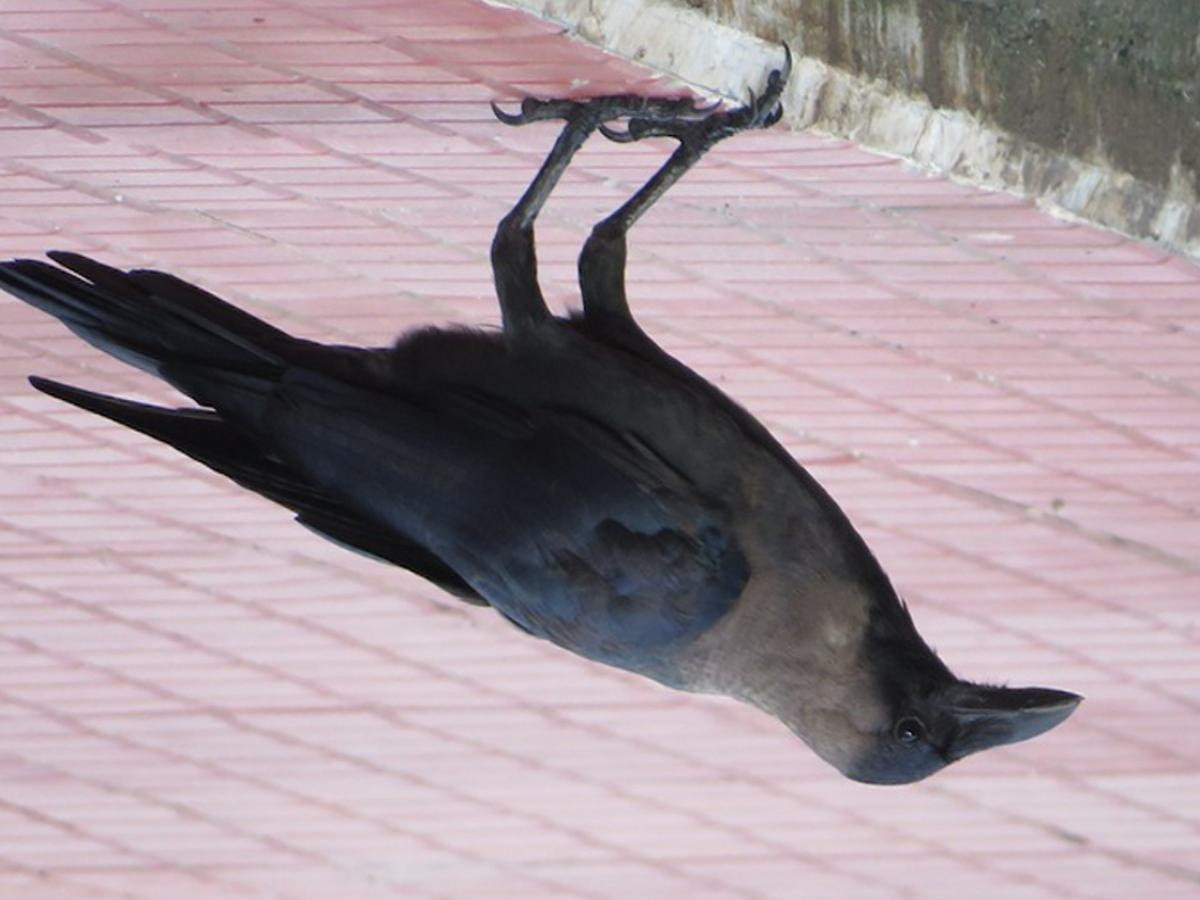crow: (13, 55, 1094, 809)
